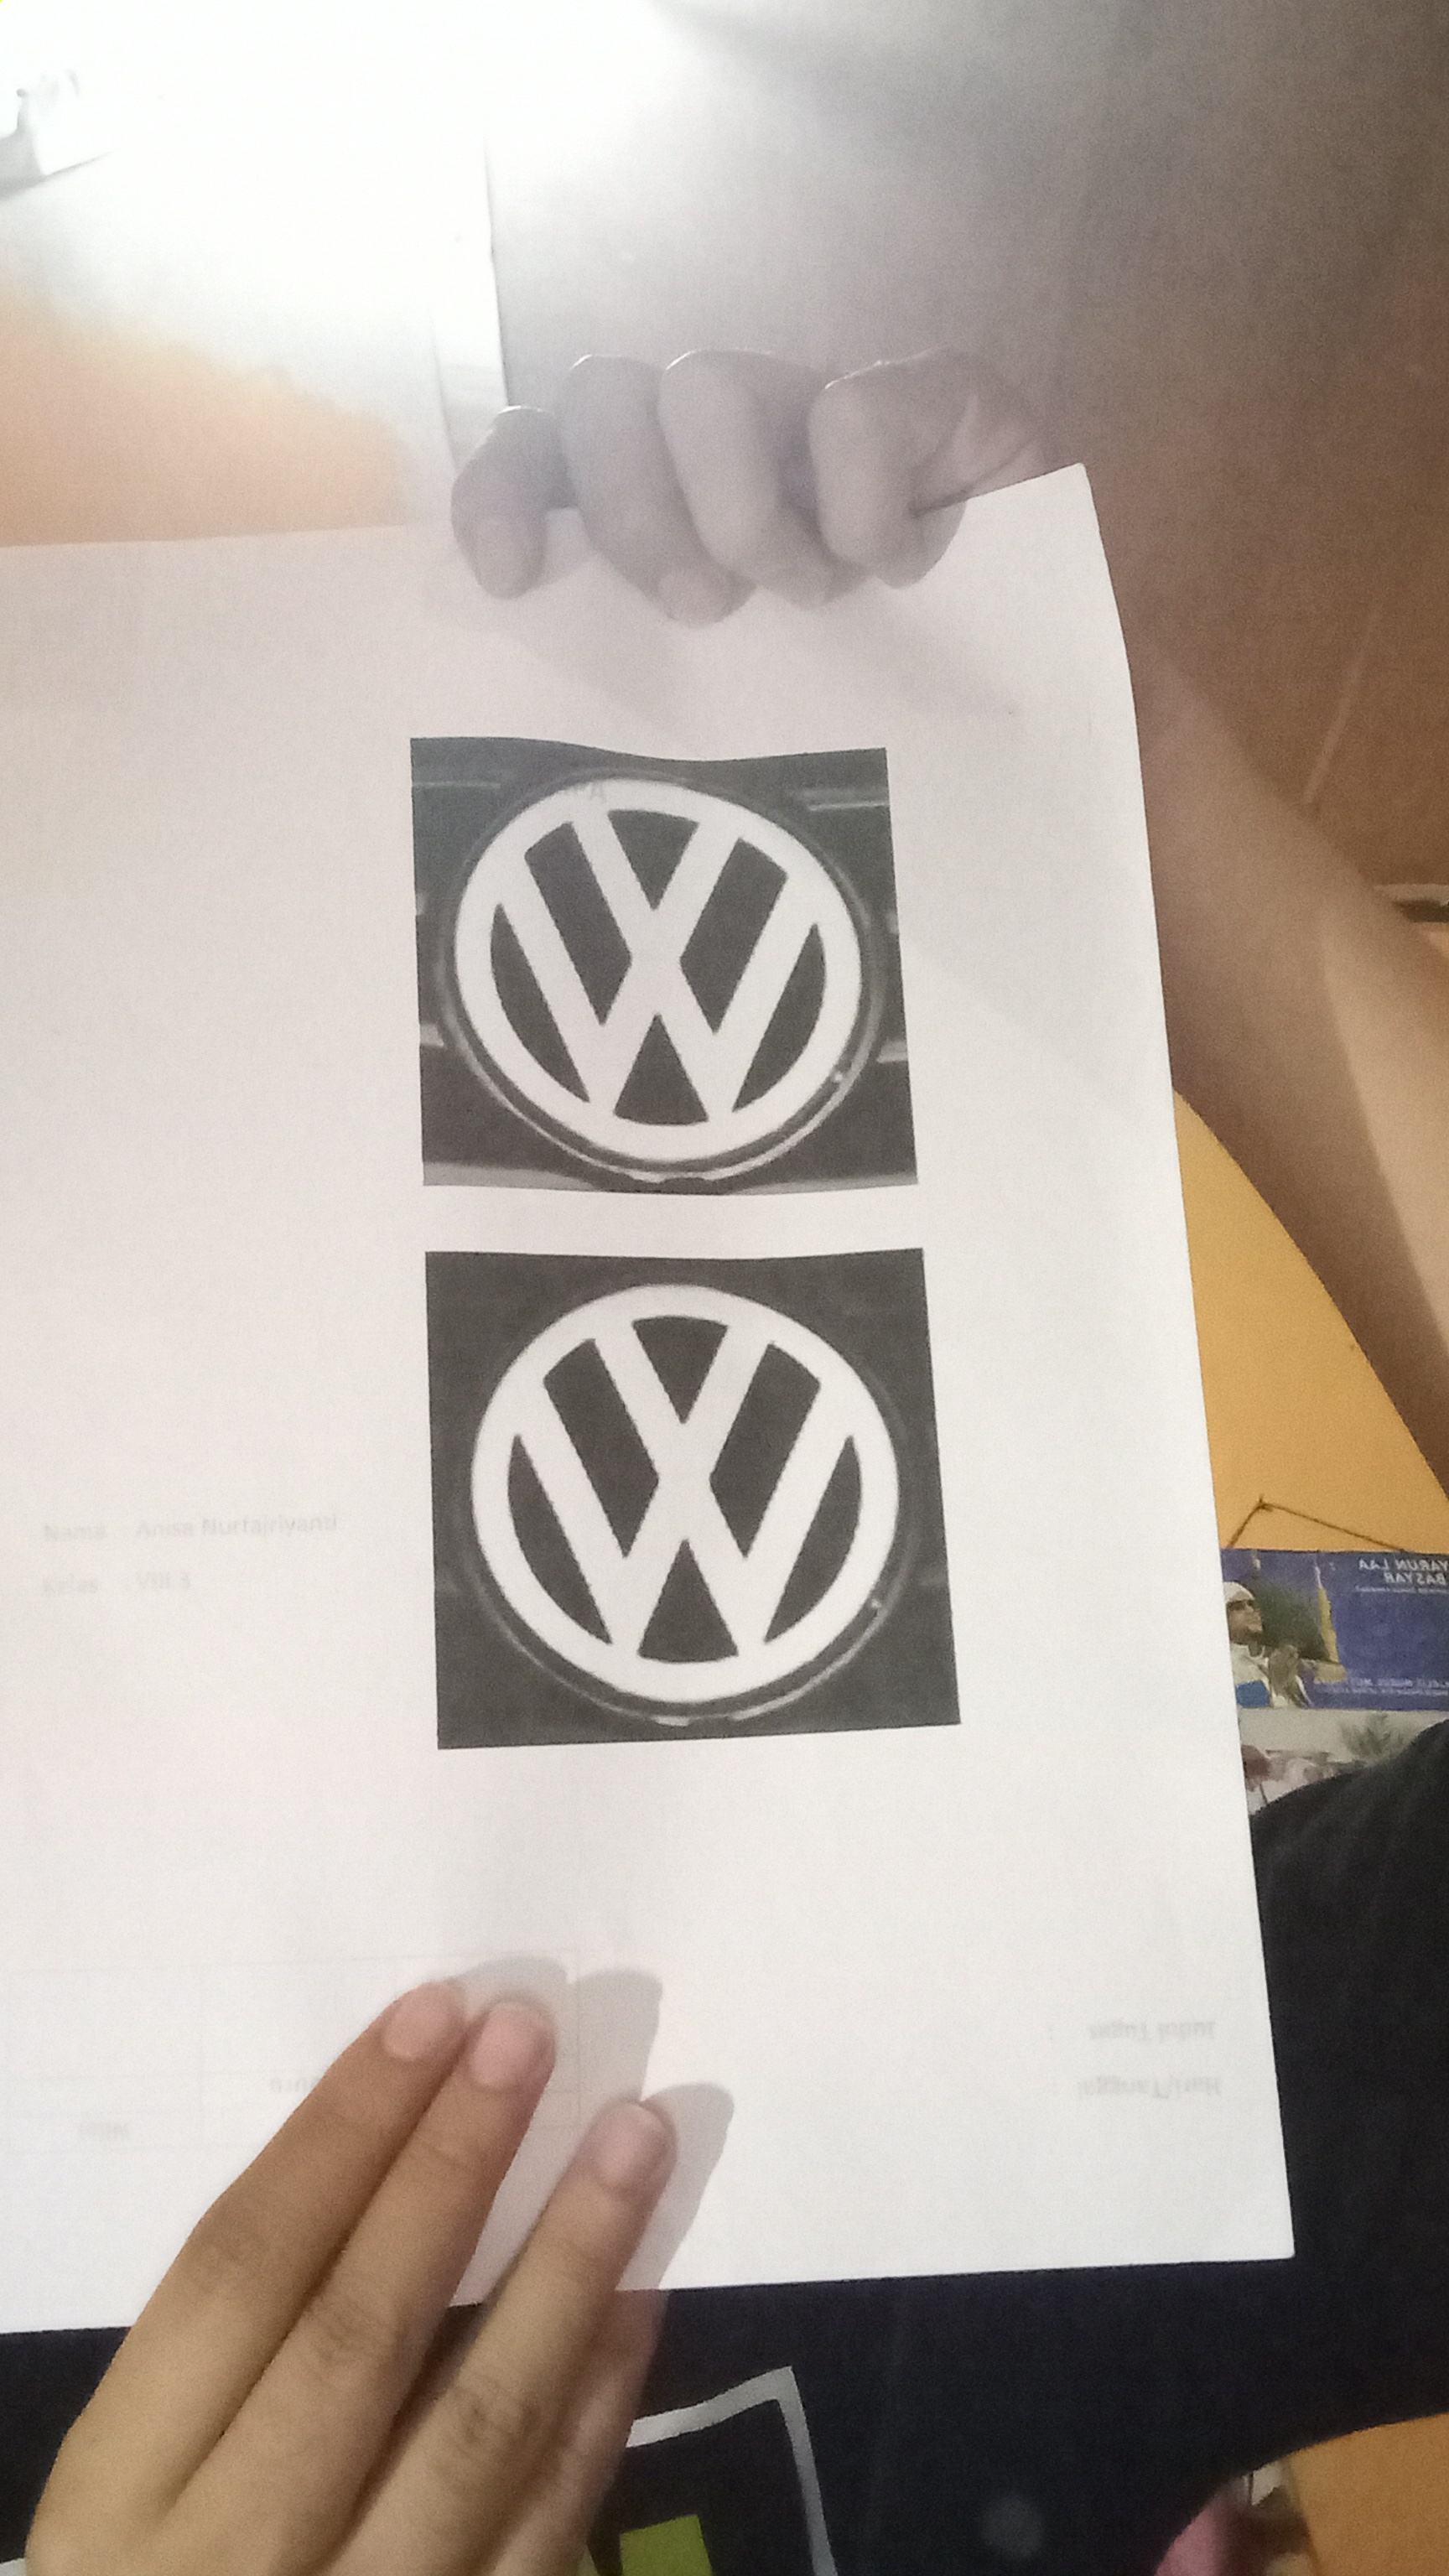Volkswagen: (442, 1261, 941, 1729), (419, 752, 902, 1194)
